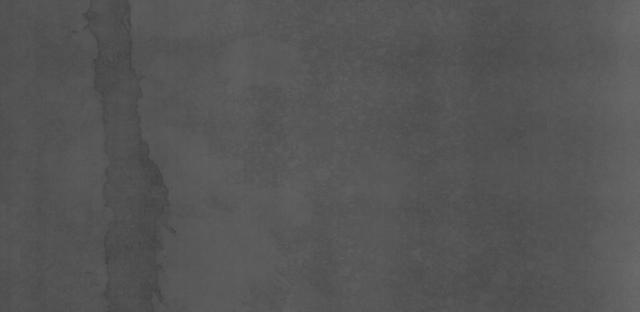water_spot: (81, 2, 200, 311)
